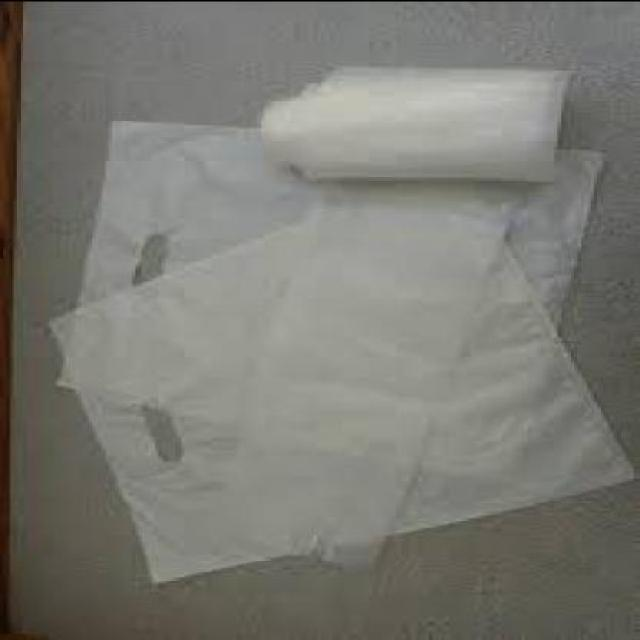PLASTIC: (46, 172, 637, 578), (49, 113, 600, 479), (257, 59, 568, 178)
